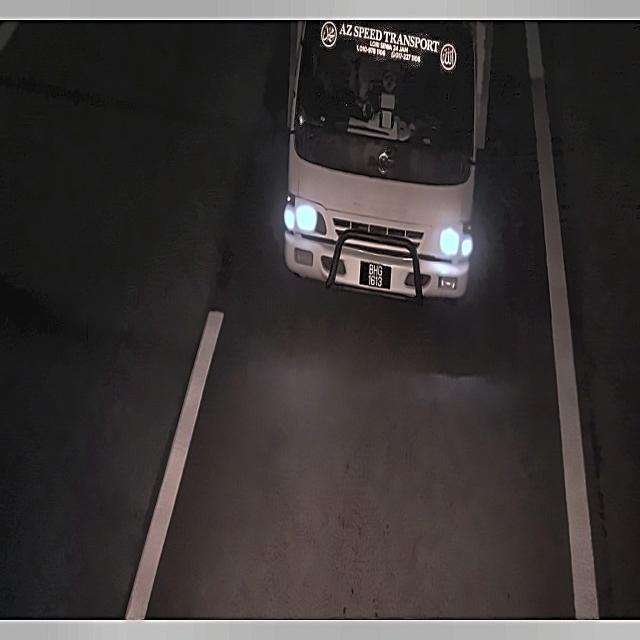car: (356, 255, 398, 297)
